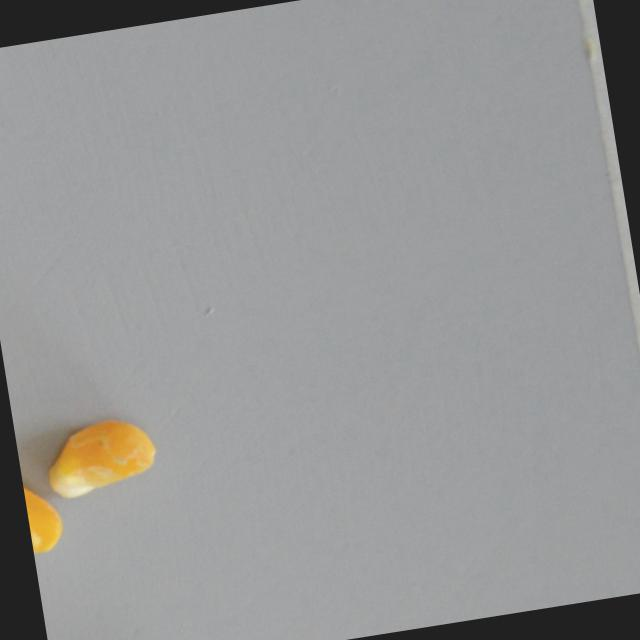dañado: (36, 410, 162, 506), (17, 450, 65, 557)
